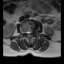CCS_normal: (28, 29, 30, 37)
LFS_severe_stenosis: (31, 29, 33, 34)
LLS_stenosis: (30, 29, 31, 36)
RFS_stenosis: (24, 29, 26, 35)
RLS_stenosis: (26, 29, 28, 35)
